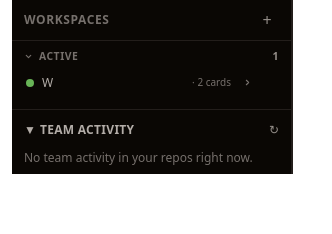
Test case: Sidebar — linked cards on workspace rows › expanding a workspace row reveals linked card titles
Click the button with test id "ws-row-expand-ws_a".
click(247, 83)  # box left=239, top=75, right=255, bottom=91
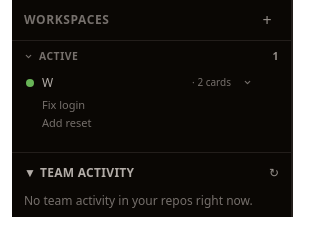
Expected: the button with test id "ws-row-card-tk_a" reads "Fix login", left=42, top=97, right=279, bottom=113
Expected: the button with test id "ws-row-card-tk_b" reads "Add reset", left=42, top=115, right=279, bottom=132
